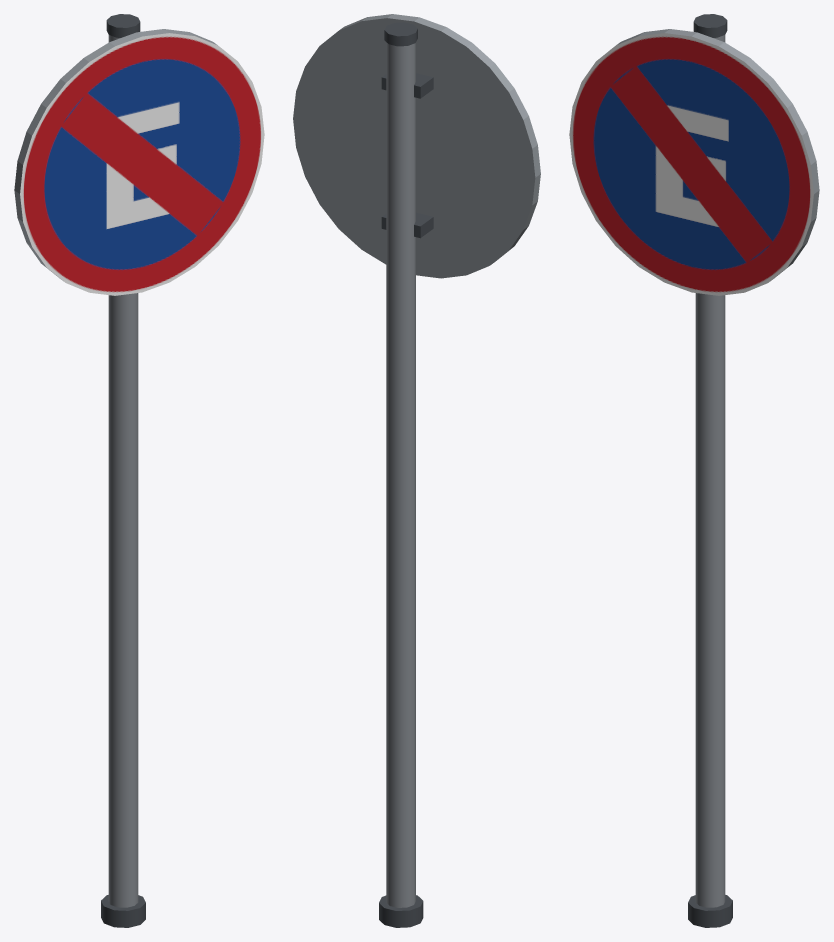
File: placa-proibido-estacionar.glb
3 renders of one model, left to right at view 1: azimuth 30°, elevation 25°; view 2: azimuth 150°, elevation 25°; view 3: azimuth 330°, elevation 25°, orthographic.
Parts seen in each view (by area): view 1: Placa, Poste; view 2: Placa, Poste, Suportes; view 3: Placa, Poste.
Boxes of the visible parts, x1=… form: Placa: x1=14, y1=29, x2=264, y2=295; Poste: x1=101, y1=14, x2=145, y2=927; Placa: x1=293, y1=14, x2=540, y2=278; Poste: x1=379, y1=22, x2=423, y2=927; Suportes: x1=381, y1=73, x2=433, y2=238; Placa: x1=569, y1=29, x2=819, y2=295; Poste: x1=688, y1=14, x2=732, y2=927.
Size of the model in its own units: 0.75 by 2.63 by 0.1571.
Materials: 4 (1 with a texture image).
